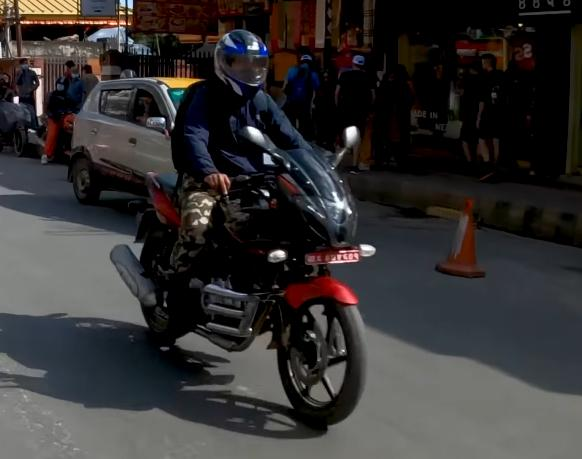bike: (108, 118, 383, 435)
